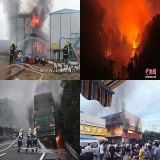fire: (129, 39, 139, 68), (31, 11, 40, 30), (110, 124, 124, 136), (105, 47, 112, 59), (55, 133, 61, 146), (128, 129, 135, 136)
